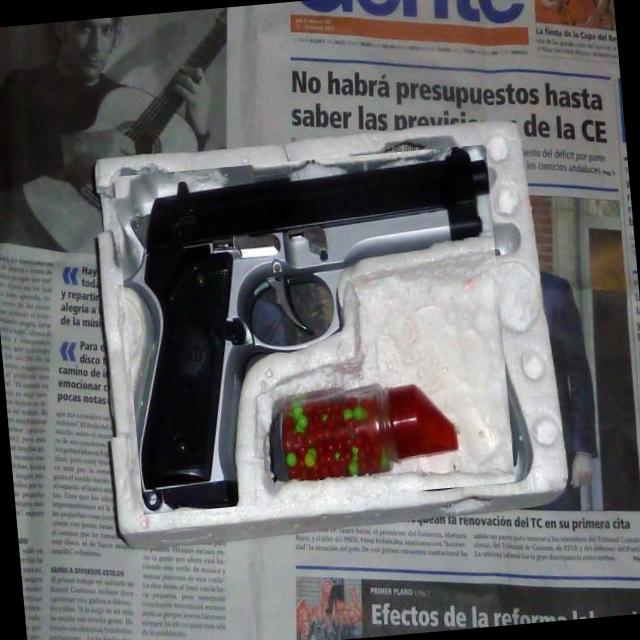Gun: (139, 147, 489, 508)
